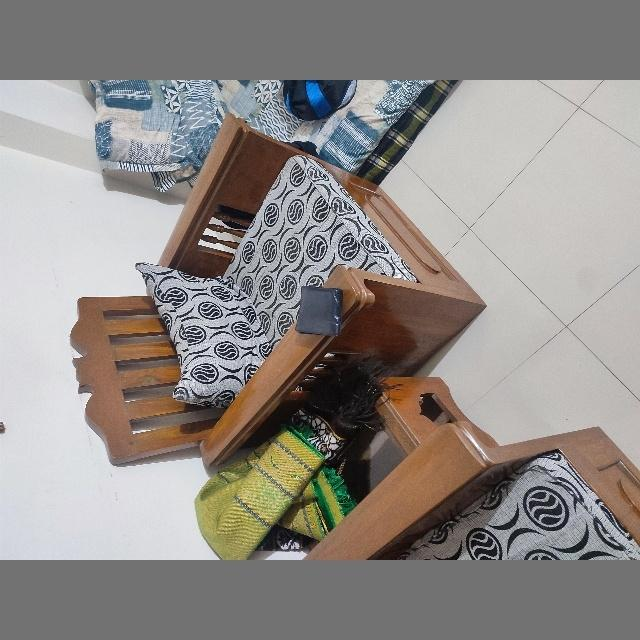Wallet: (296, 287, 342, 337)
